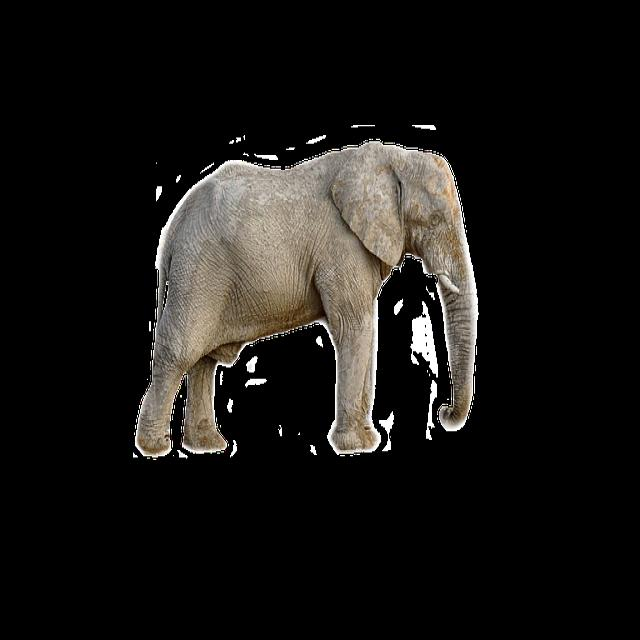FIL: (134, 138, 499, 454)
